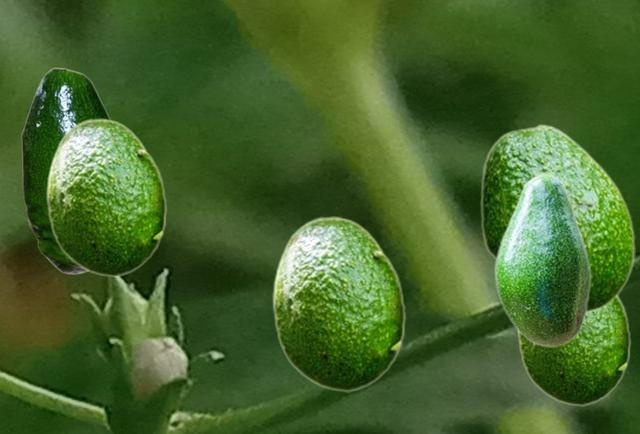avocado: (479, 123, 634, 315), (271, 216, 405, 391), (45, 118, 166, 276), (21, 67, 110, 273), (493, 172, 590, 347), (516, 296, 630, 405)
